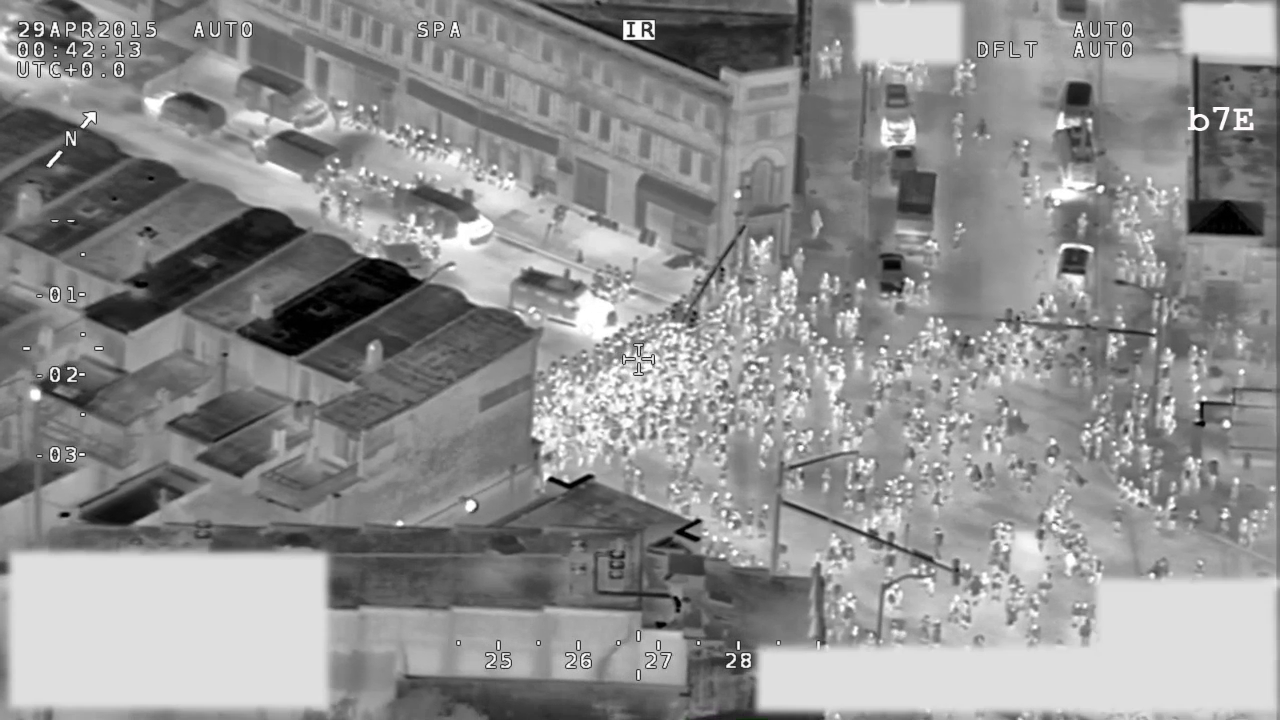vehicle: (503, 263, 626, 341), (228, 63, 333, 132), (398, 181, 500, 249), (248, 123, 348, 190), (142, 80, 229, 145), (1, 24, 92, 82), (875, 65, 926, 158), (888, 167, 942, 253), (1051, 125, 1105, 195), (23, 1, 108, 43), (1050, 76, 1103, 127), (1054, 238, 1099, 297), (875, 251, 910, 306)
